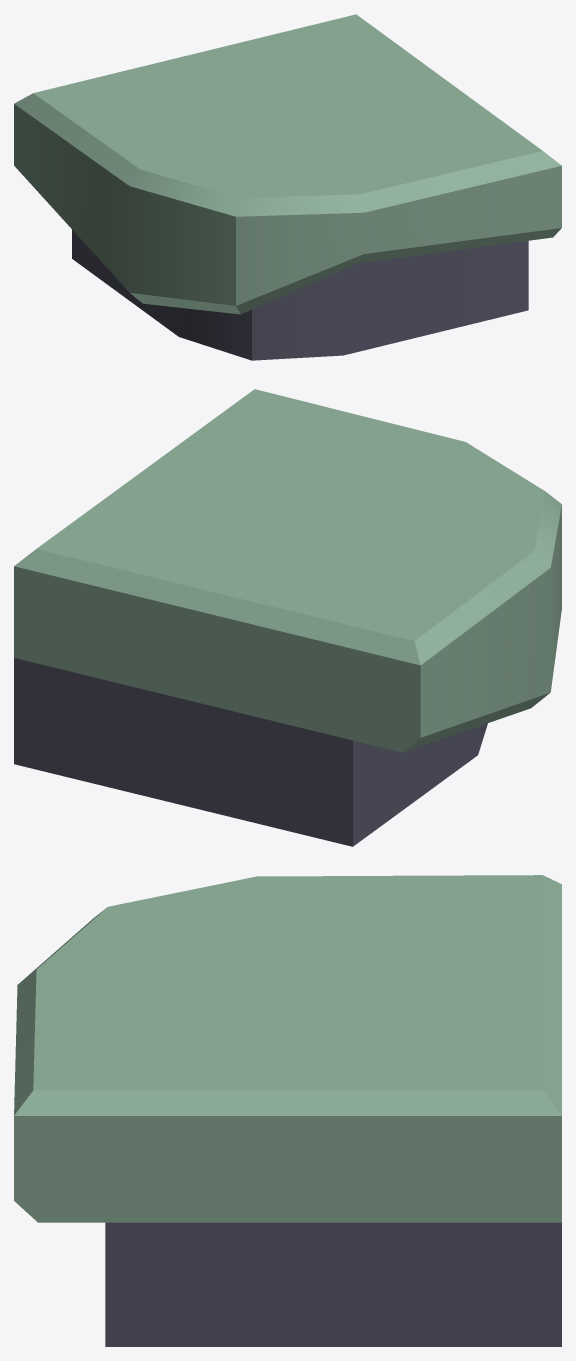
The model's file is bottomLTile.fbx.
3 renders of one model, top to bottom at view 1: azimuth 30°, elevation 25°; view 2: azimuth 150°, elevation 25°; view 3: azimuth 270°, elevation 25°, orthographic. The views are drawn at different scales.
Parts seen in each view (by area): view 1: blTile; view 2: blTile; view 3: blTile.
Boxes of the visible parts, box(x1,y1,x2,y2) form: blTile: box(14, 14, 561, 360); blTile: box(14, 389, 561, 846); blTile: box(14, 875, 561, 1346).
Size of the model in its own units: 60 by 30 by 60.
